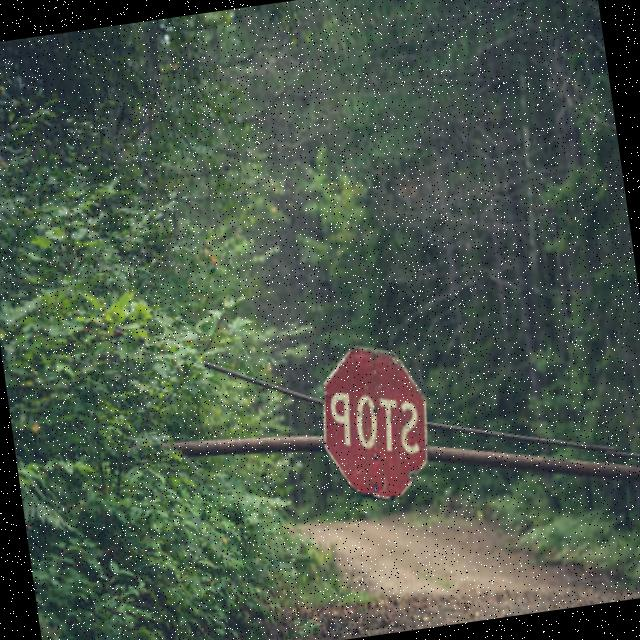stop: (300, 300, 438, 513)
